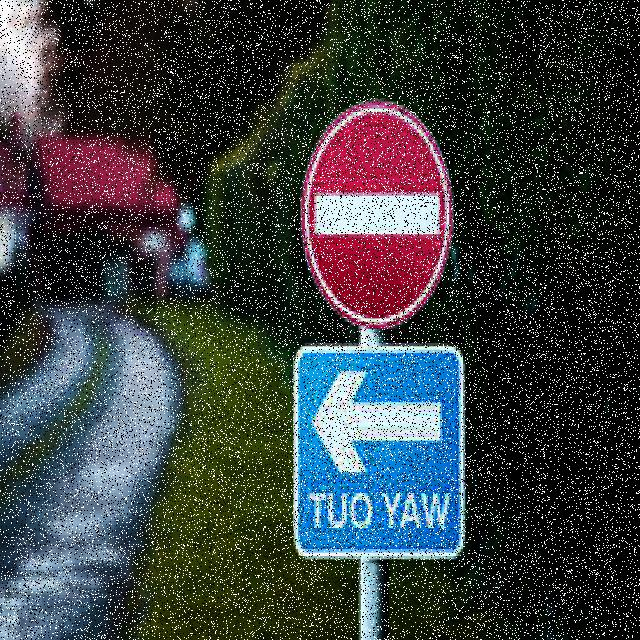no entry: (300, 102, 454, 326)
